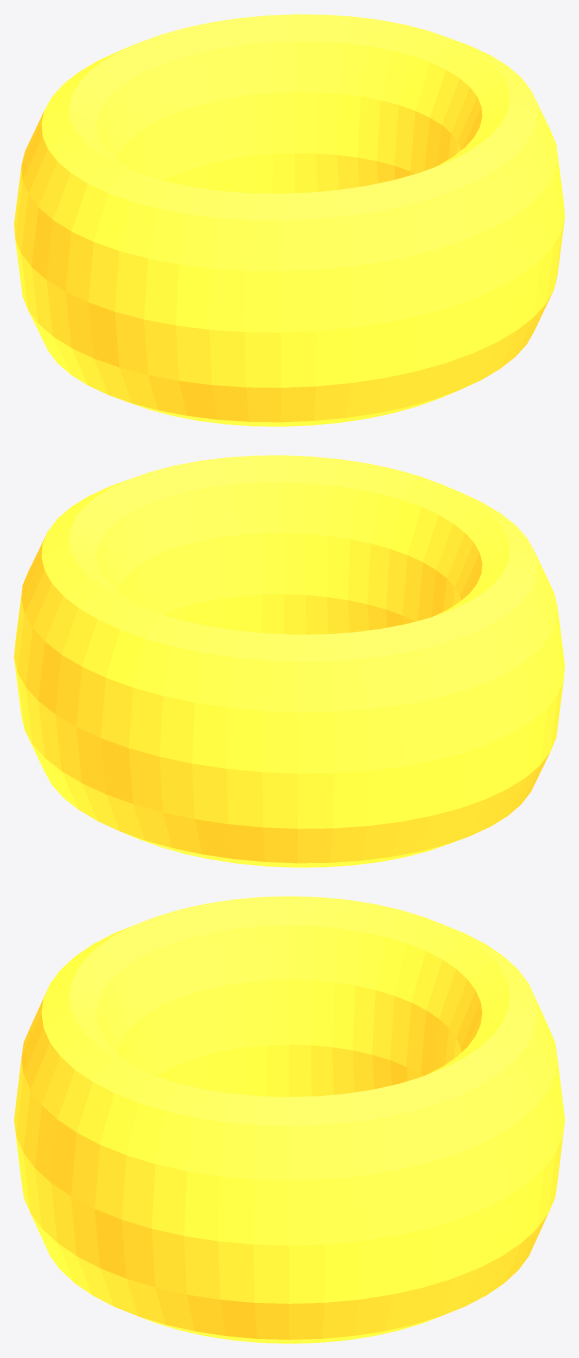
Rendered from sconce.glb.
3 views of the same model, one above another, from view 1: azimuth 30°, elevation 25°; view 2: azimuth 150°, elevation 25°; view 3: azimuth 270°, elevation 25° (orthographic). The views are drawn at different scales.
Parts seen in each view (by area): view 1: Torus.003; view 2: Torus.003; view 3: Torus.003.
Boxes of the visible parts, bbox=[...] form: Torus.003: bbox=[14, 14, 564, 426]; Torus.003: bbox=[14, 455, 564, 867]; Torus.003: bbox=[14, 896, 564, 1343].
Size of the model in its own units: 4.37 by 2 by 4.05.
